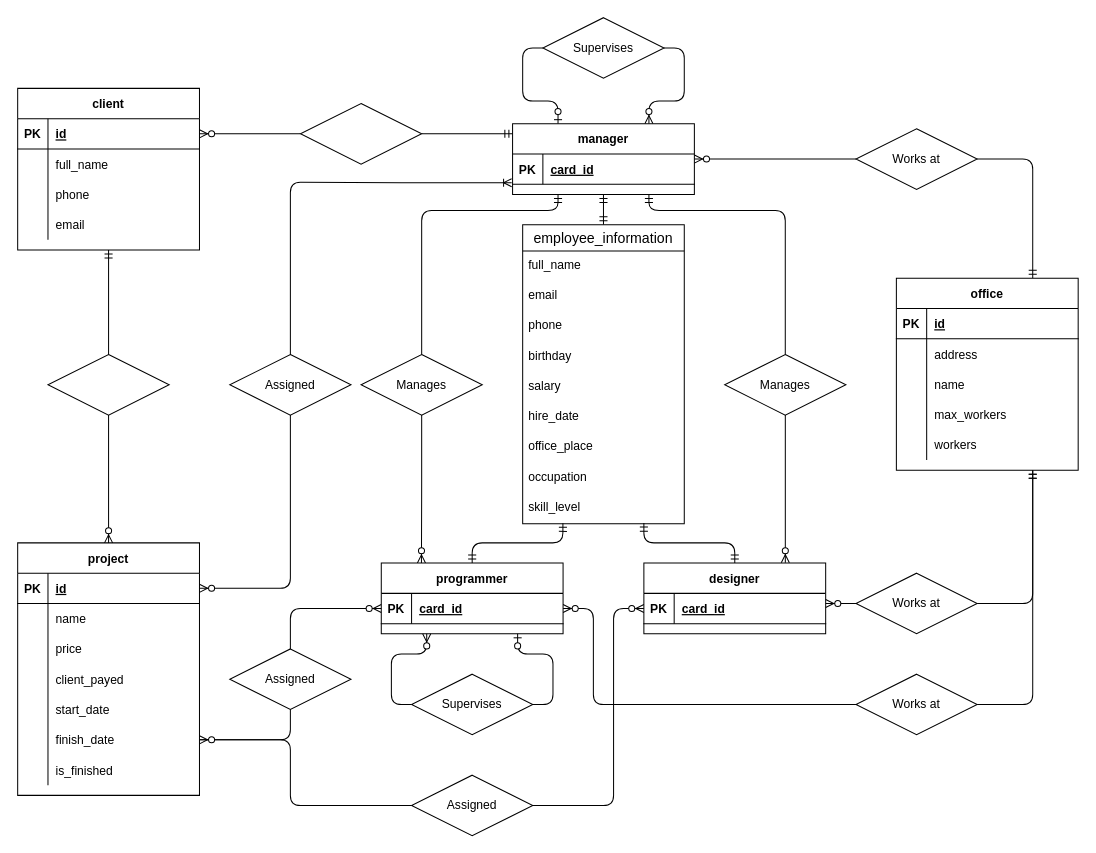
Some shapes in this 1096 by 853 pixel diagram are drawn without their labels. The centre of each missing label's shape, as x and y in pixels:
Communicates: the point at 360,133
Has: the point at 108,384
